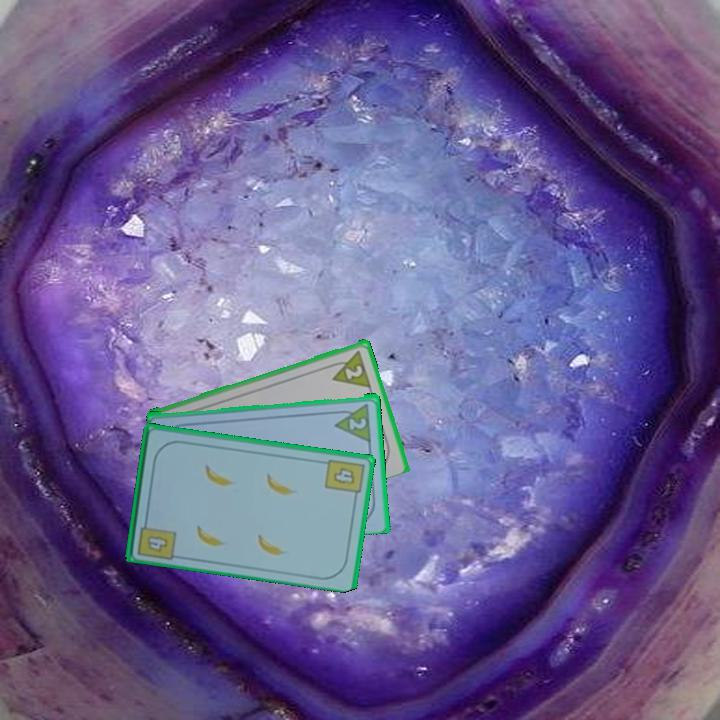2p: (325, 346, 374, 390), (346, 414, 369, 432)
4b: (321, 455, 367, 502), (134, 514, 179, 562)
